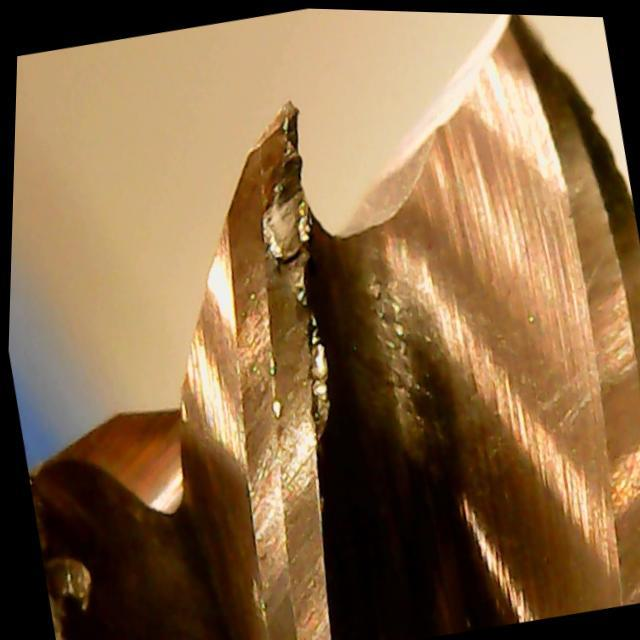Tool-wear-class-2: (173, 87, 349, 336)
